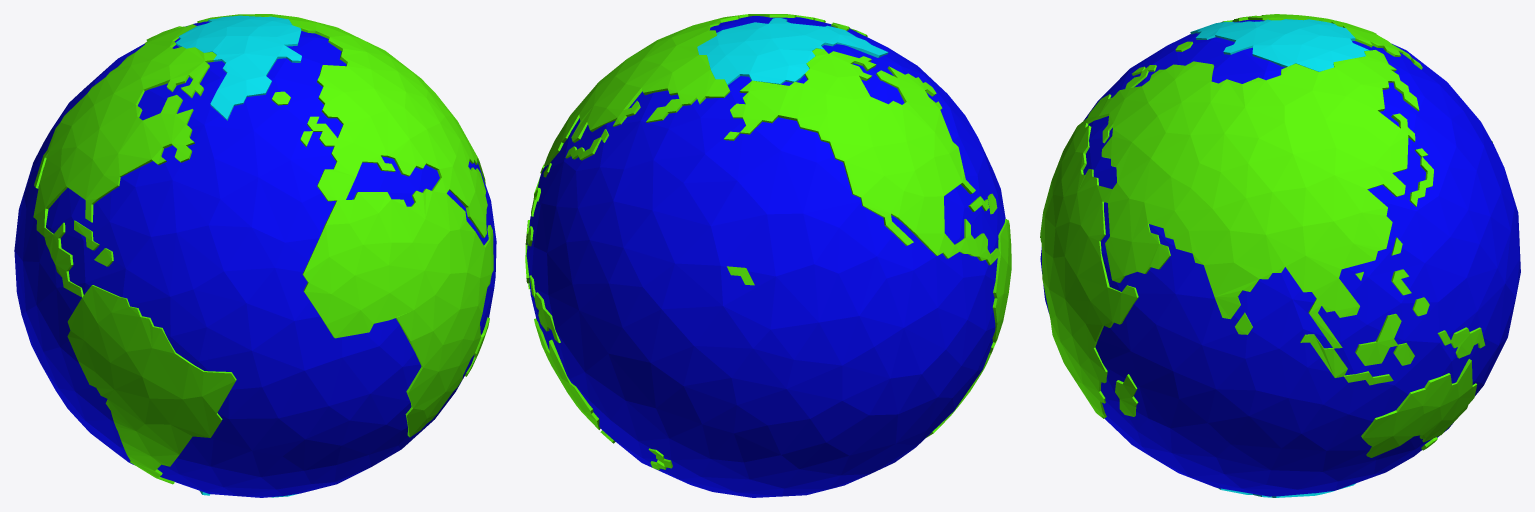
File: 2earth.glb
3 renders of one model, left to right at view 1: azimuth 30°, elevation 25°; view 2: azimuth 150°, elevation 25°; view 3: azimuth 270°, elevation 25°, orthographic.
Parts seen in each view (by area): view 1: Low_Poly_Earth; view 2: Low_Poly_Earth; view 3: Low_Poly_Earth.
Part boxes in pixels (x1,y1,x2,y2): Low_Poly_Earth: (14,14,496,497); Low_Poly_Earth: (525,14,1011,497); Low_Poly_Earth: (1040,14,1520,497).
Bounding box in the file's own units: 5.94 × 5.98 × 5.94.
